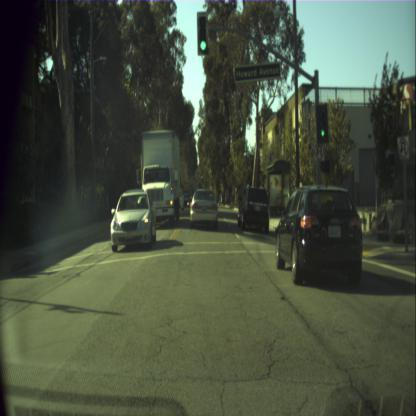Green: (317, 106, 327, 142), (199, 16, 206, 51)
